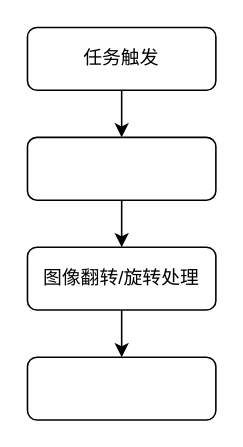
The diagram is 243 pixels wide and 447 high, and some of its shapes have lost their labels. The centre of each missing label's shape, as x and y in pixels:
结果输出: the point at 121,388
获取用户输入值: the point at 121,168
